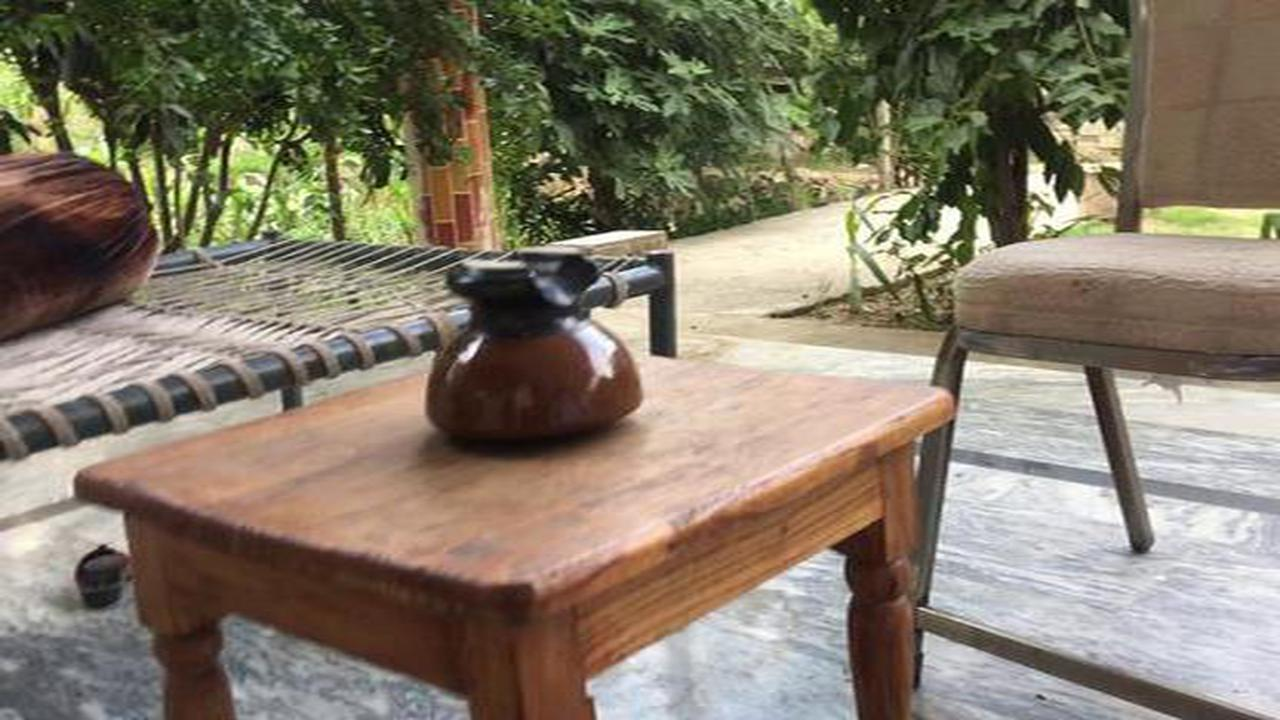insulator_pin: (413, 241, 659, 449)
